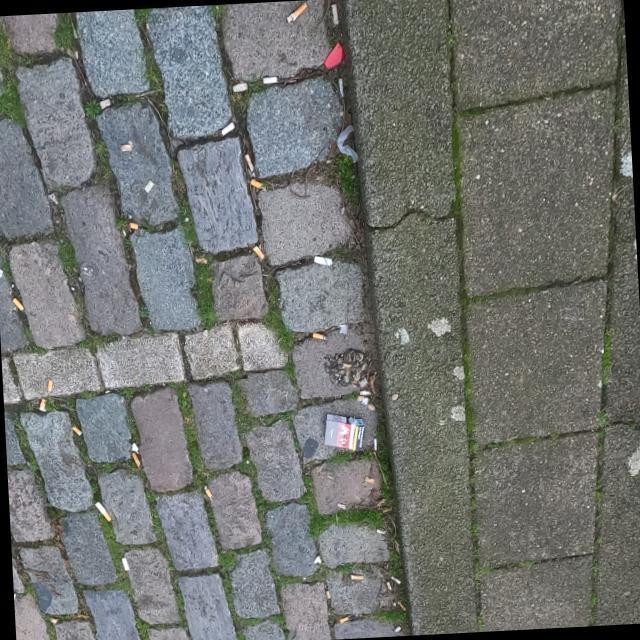Paper: (322, 413, 366, 453)
